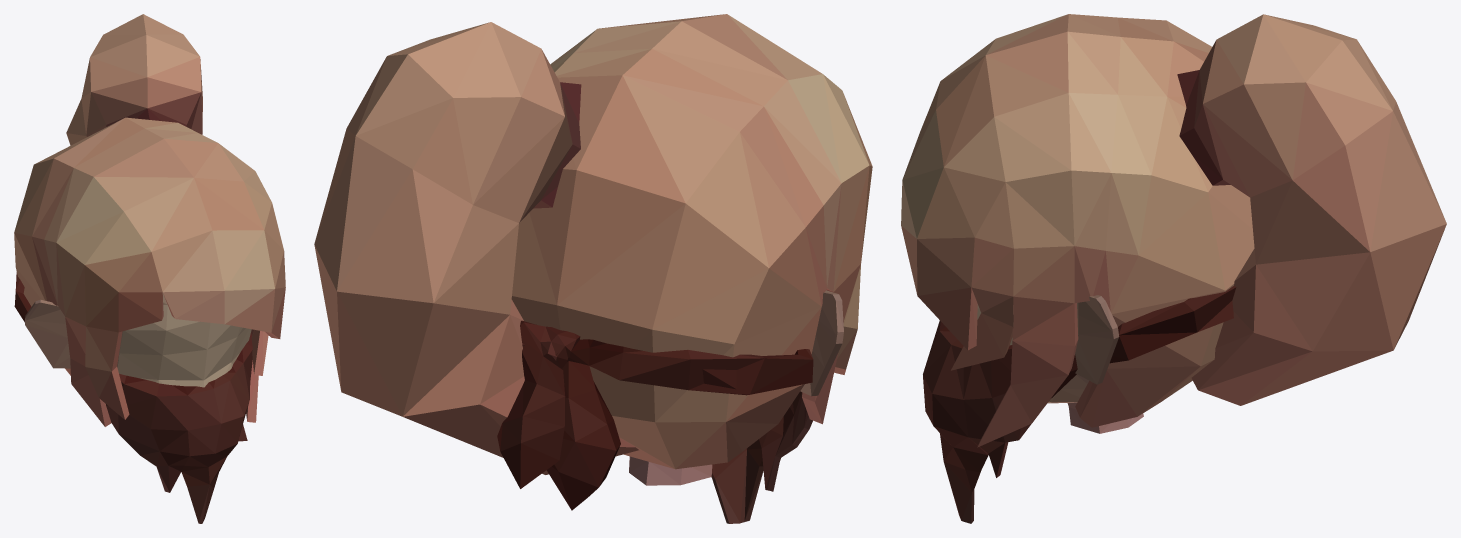
Rendered from helm_lightskin_ponytail_blonde_bandana.fbx.
The picture shows the model from 3 angles, left to right: view 1: azimuth 30°, elevation 25°; view 2: azimuth 150°, elevation 25°; view 3: azimuth 270°, elevation 25°; orthographic projection. The views are drawn at different scales.
Visible parts, largest first — view 1: helm_lightskin_ponytail_blonde_bandana; view 2: helm_lightskin_ponytail_blonde_bandana; view 3: helm_lightskin_ponytail_blonde_bandana.
Boxes of the visible parts, x1,y1,x2,y2 form: helm_lightskin_ponytail_blonde_bandana: [14, 14, 285, 523]; helm_lightskin_ponytail_blonde_bandana: [314, 14, 872, 523]; helm_lightskin_ponytail_blonde_bandana: [901, 14, 1446, 523].
Bounding box in the file's own units: 1.21 × 1.8 × 1.64.
